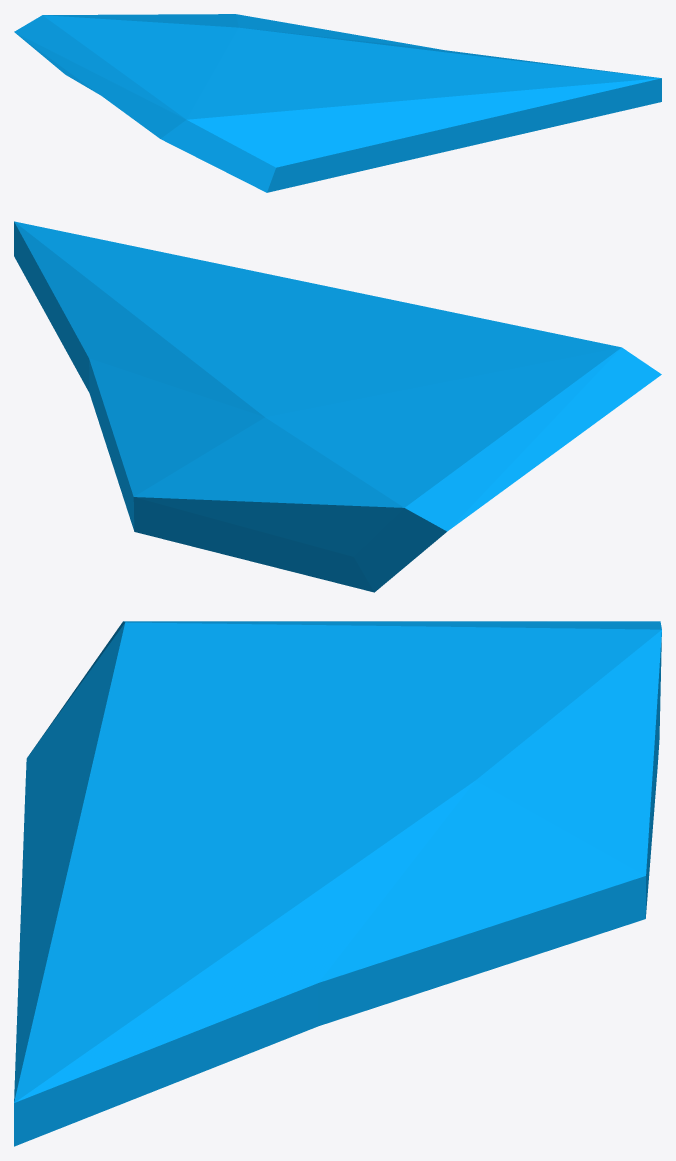
Rendered from p_mesh_drillbot_metalchunk02_col.fbx.
3 views of the same model, one above another, from view 1: azimuth 30°, elevation 25°; view 2: azimuth 150°, elevation 25°; view 3: azimuth 270°, elevation 25° (orthographic). The views are drawn at different scales.
Parts seen in each view (by area): view 1: Plane.002; view 2: Plane.002; view 3: Plane.002.
Boxes of the visible parts, bbox=[...] form: Plane.002: bbox=[14, 14, 661, 192]; Plane.002: bbox=[14, 221, 661, 592]; Plane.002: bbox=[14, 621, 661, 1146].
Bounding box in the file's own units: 7.8 × 1.08 × 5.06.
